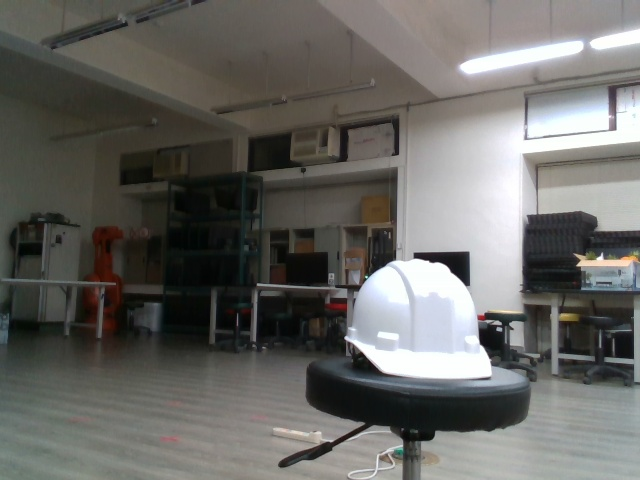helmet: (342, 255, 494, 382)
